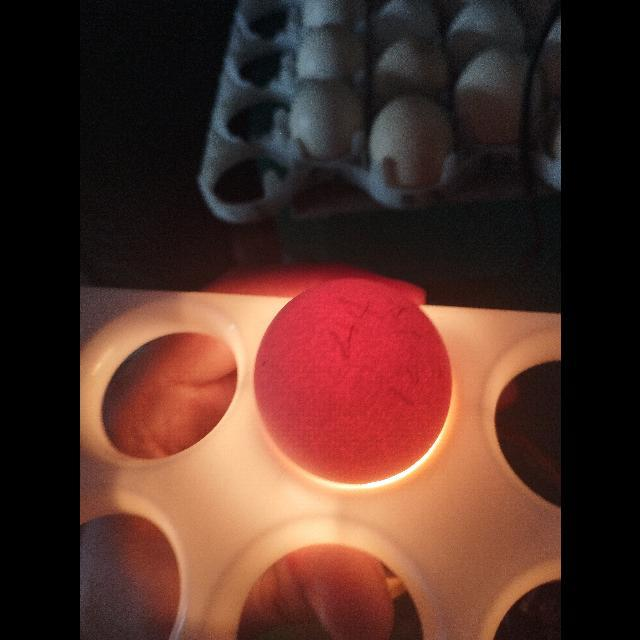A - Good: (249, 272, 457, 494)
